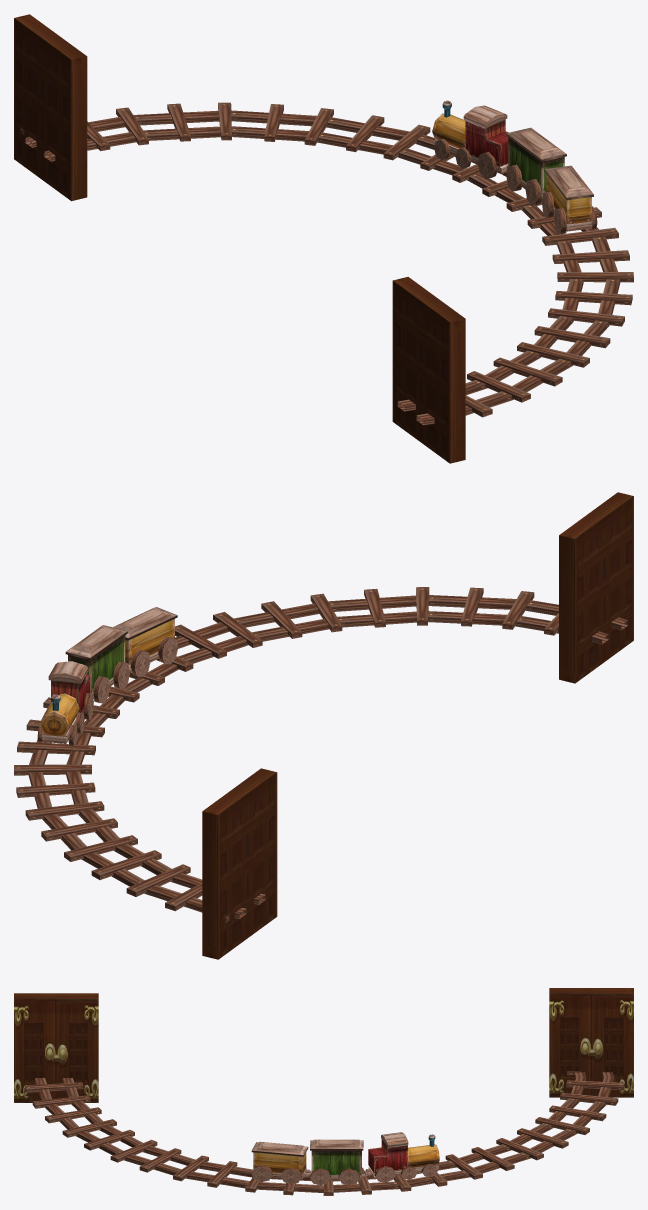
The picture shows the model from 3 angles, top to bottom: view 1: azimuth 30°, elevation 25°; view 2: azimuth 150°, elevation 25°; view 3: azimuth 270°, elevation 25°; orthographic projection. The views are drawn at different scales.
Size of the model in its own units: 2.93 by 1.1 by 5.97.
Materials: 3 (3 with a texture image).
